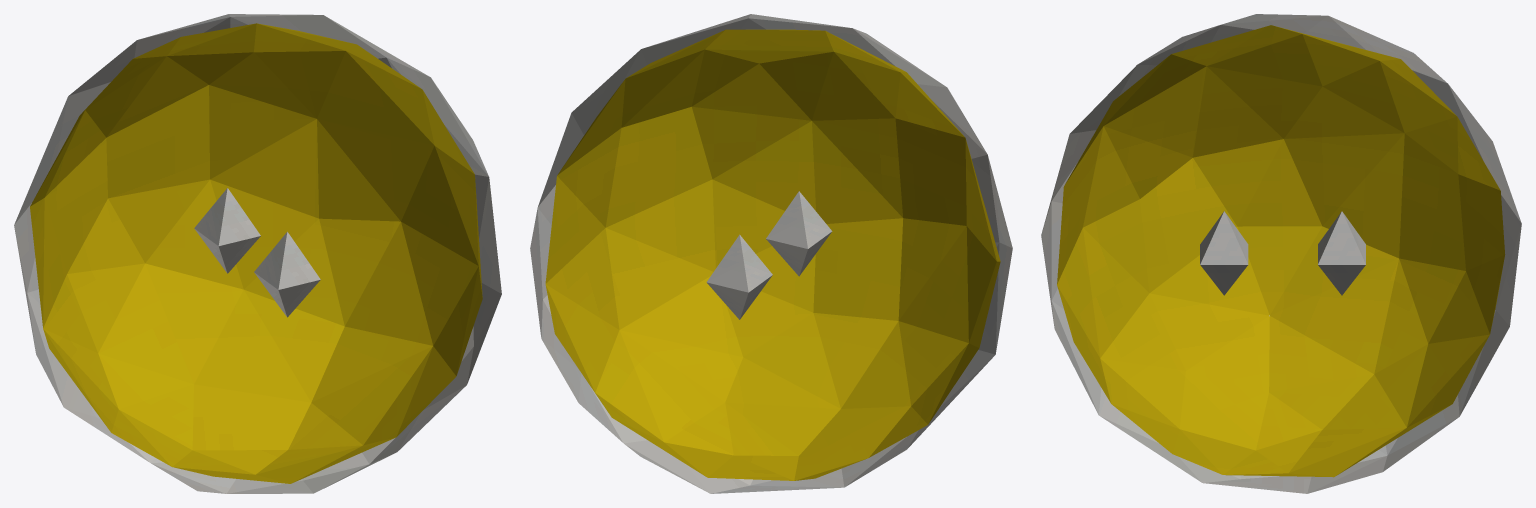
File: item_quest_dball_2.glb
3 views of the same model, side by side, from view 1: azimuth 30°, elevation 25°; view 2: azimuth 150°, elevation 25°; view 3: azimuth 270°, elevation 25° (orthographic).
Visible parts, largest first — view 1: DragonBall, DragonBall.001, Diamond.001, Diamond; view 2: DragonBall, DragonBall.001, Diamond, Diamond.001; view 3: DragonBall, DragonBall.001, Diamond.001, Diamond.
Part boxes in pixels (x1,y1,x2,y2): DragonBall: (30, 23, 482, 483); DragonBall.001: (14, 14, 501, 493); Diamond.001: (254, 231, 320, 317); Diamond: (194, 188, 260, 273); DragonBall: (545, 29, 1000, 480); DragonBall.001: (530, 14, 1012, 493); Diamond: (706, 234, 772, 319); Diamond.001: (766, 191, 832, 276); DragonBall: (1057, 25, 1505, 477); DragonBall.001: (1041, 14, 1521, 493); Diamond.001: (1200, 211, 1248, 295); Diamond: (1318, 211, 1365, 295).
Bounding box in the file's own units: 0.3543 × 0.3537 × 0.3537.
Materials: 2 (2 with a texture image).
